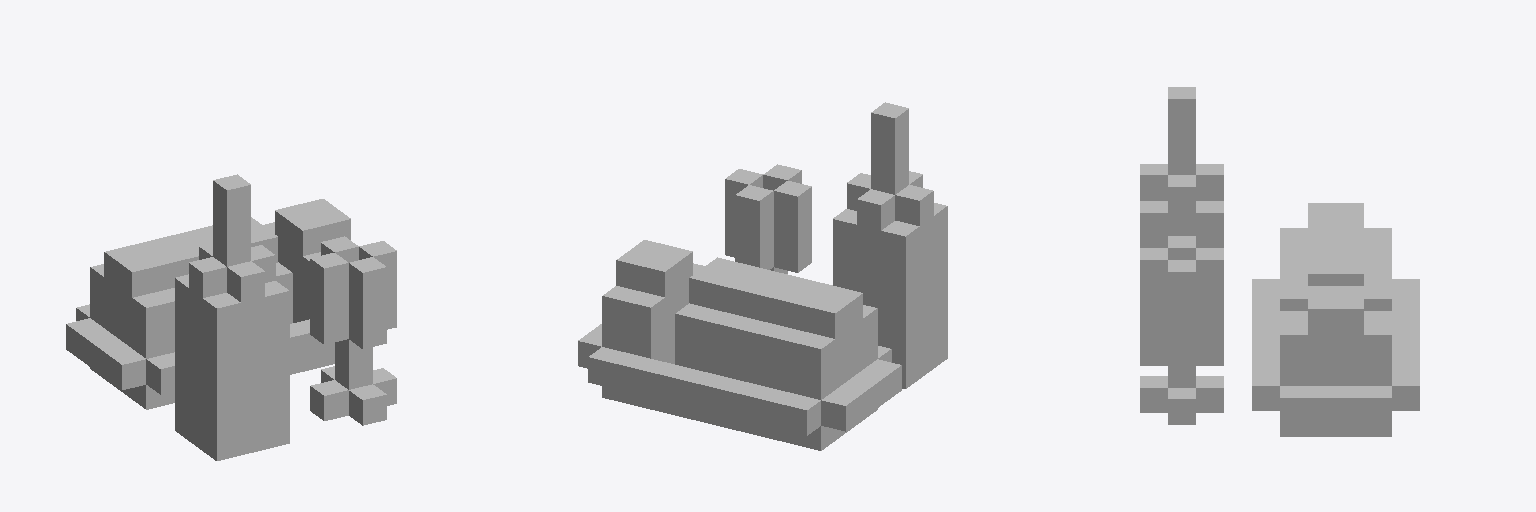
Rendered from Pao e Vinho.obj.
3 renders of one model, left to right at view 1: azimuth 30°, elevation 25°; view 2: azimuth 150°, elevation 25°; view 3: azimuth 270°, elevation 25°, orthographic.
Parts seen in each view (by area): view 1: object 1; view 2: object 1; view 3: object 1.
Boxes of the visible parts, box(x1,y1,x2,y2) form: object 1: box(66, 174, 396, 460); object 1: box(578, 102, 947, 450); object 1: box(1140, 87, 1419, 436).
Bounding box in the file's own units: 1.1 × 1 × 1.